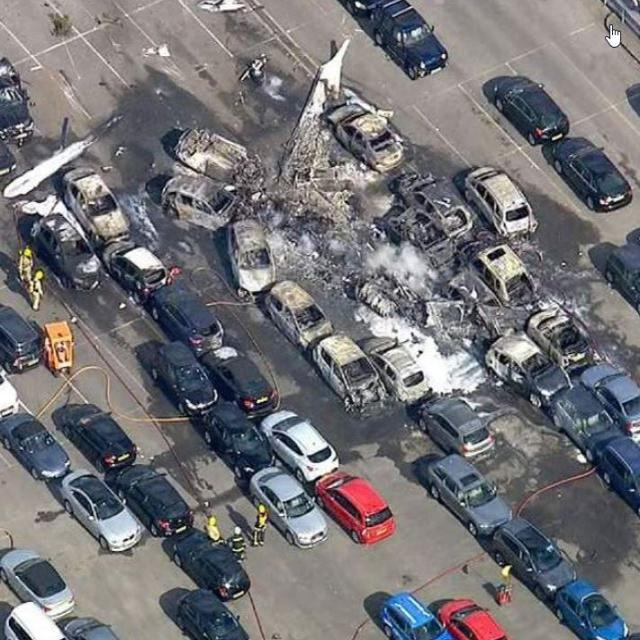traffic_incident: (186, 65, 574, 420), (41, 136, 154, 298)
